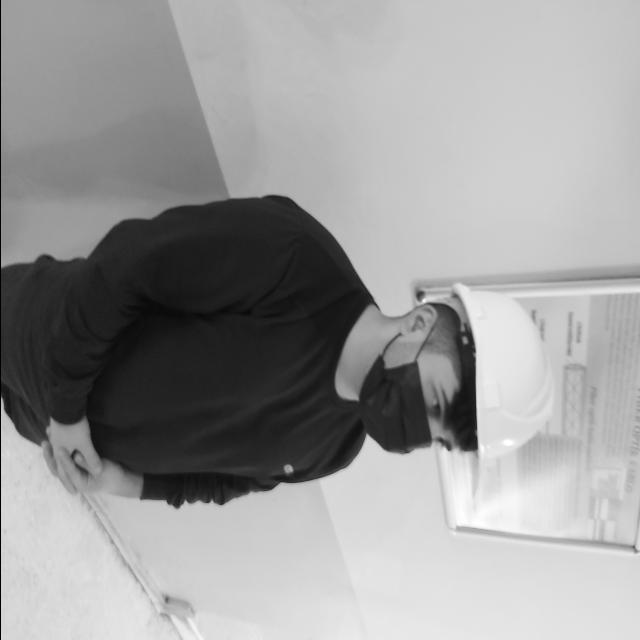safety_helmet: (413, 282, 553, 459)
